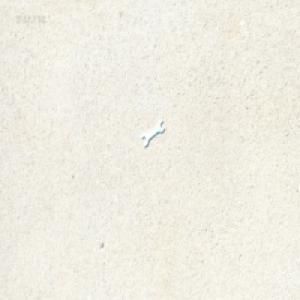Wrench: (140, 117, 162, 145)
